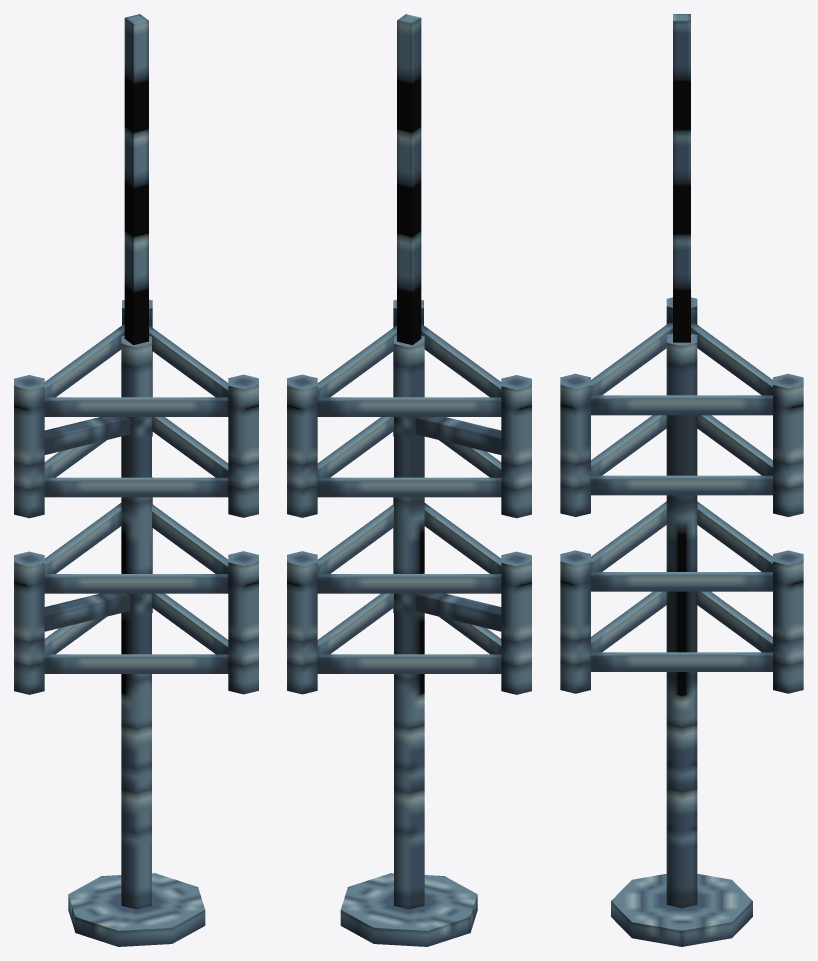
File: AntennaTri.fbx
3 renders of one model, left to right at view 1: azimuth 30°, elevation 25°; view 2: azimuth 150°, elevation 25°; view 3: azimuth 270°, elevation 25°, orthographic.
Visible parts, largest first — view 1: AntennaTri; view 2: AntennaTri; view 3: AntennaTri.
Part boxes in pixels (x1,y1,x2,y2): AntennaTri: [14, 14, 258, 946]; AntennaTri: [287, 14, 531, 946]; AntennaTri: [560, 14, 803, 946].
Size of the model in its own units: 6.25 by 28 by 6.87.
